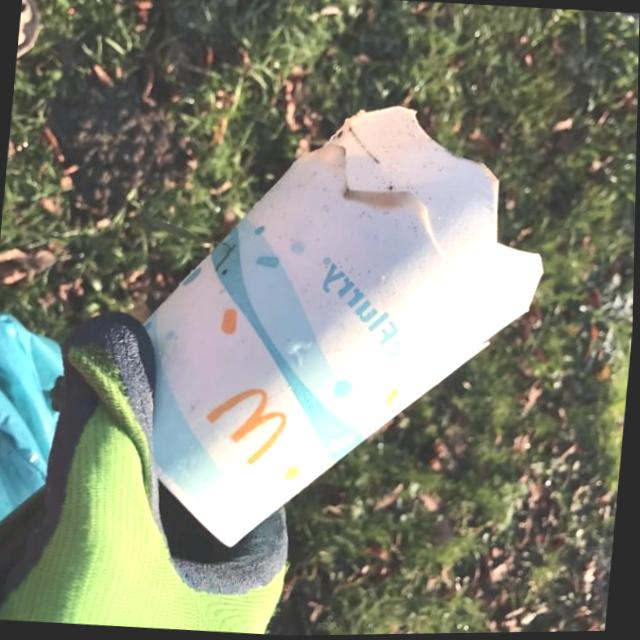Paper: (118, 87, 563, 577)
